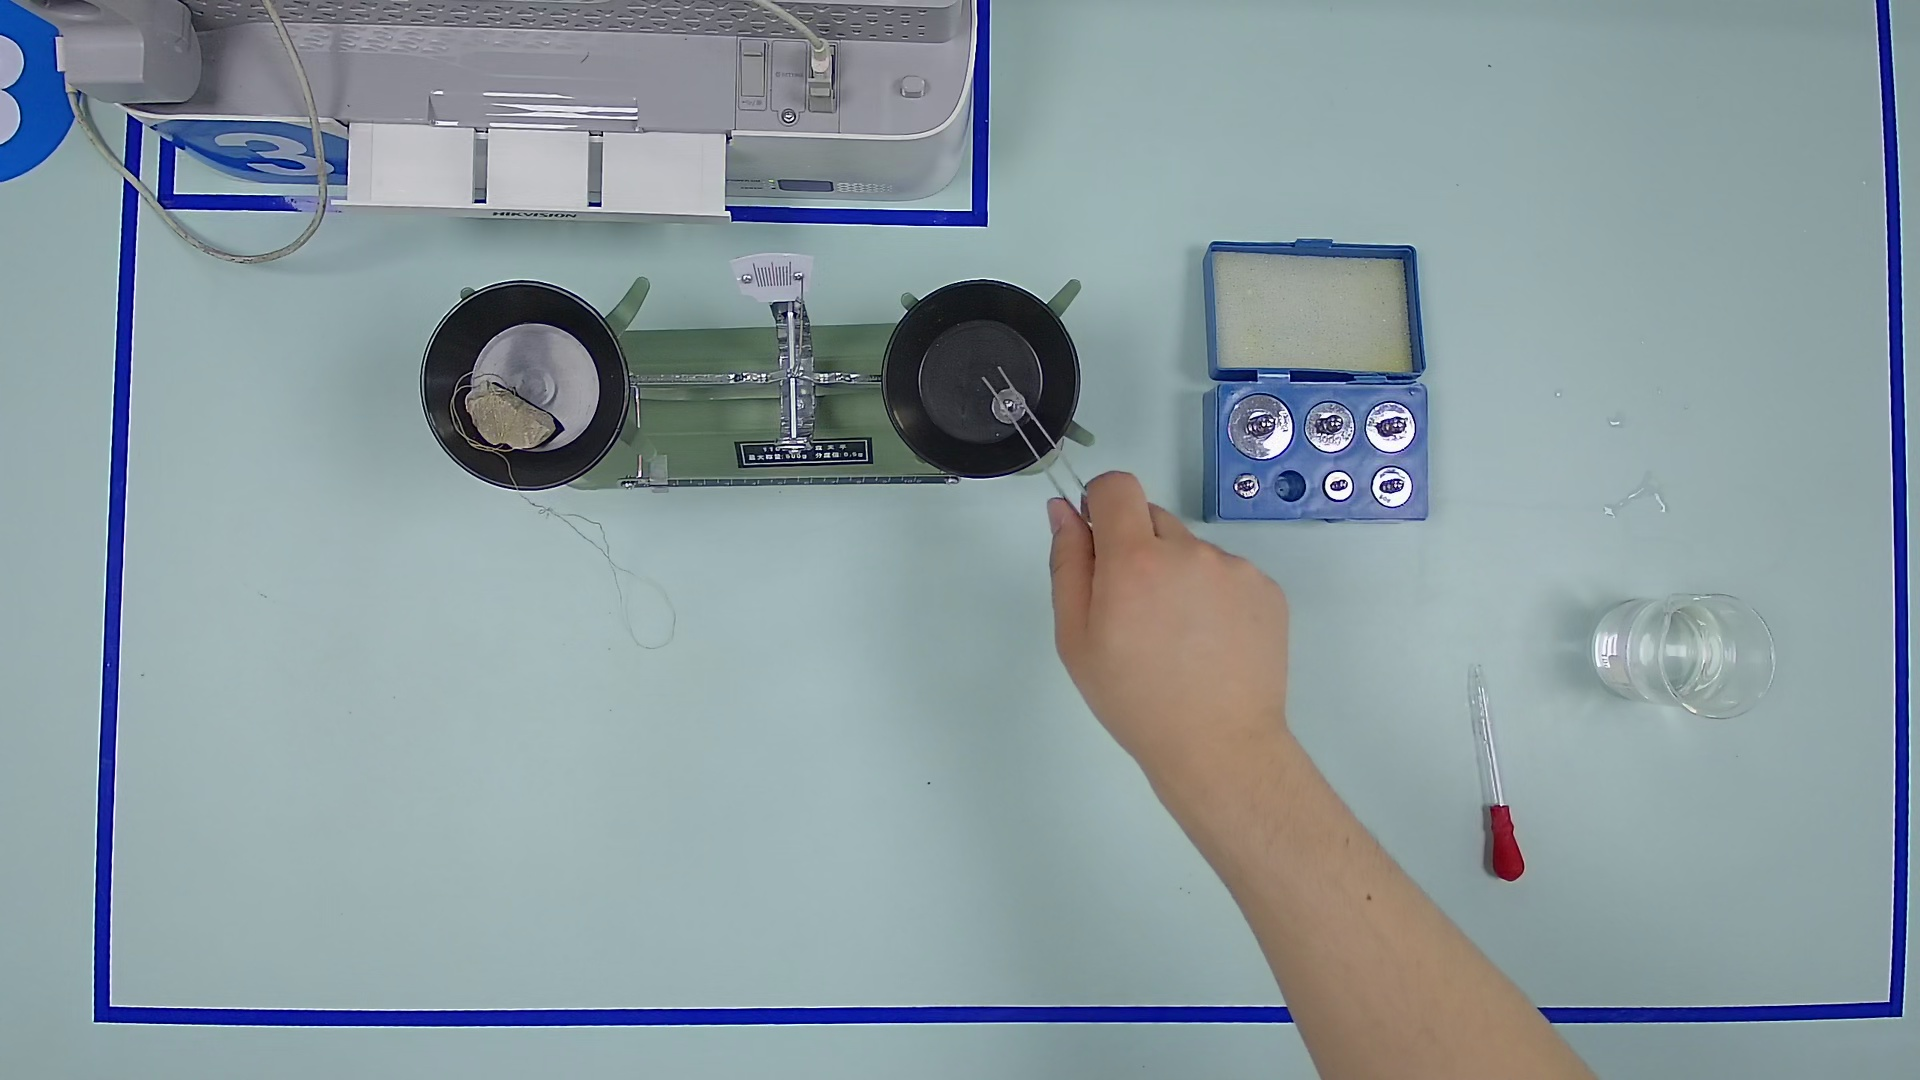bei: (1585, 575, 1780, 731)
diguan: (1448, 659, 1556, 909)
diguantou: (1473, 795, 1536, 890)
fama: (1222, 386, 1299, 465), (1299, 396, 1361, 460), (1360, 397, 1422, 462), (1367, 467, 1414, 508), (990, 385, 1030, 426), (1323, 469, 1354, 501), (1232, 471, 1261, 498)
gan: (615, 444, 953, 518)
hand: (1005, 440, 1315, 754)
he: (1174, 338, 1489, 559)
niezi: (985, 353, 1092, 521)
pointer: (735, 249, 811, 301)
shi: (462, 368, 558, 456)
tuo: (858, 256, 1113, 513), (398, 262, 653, 516)
you: (642, 452, 675, 498)
